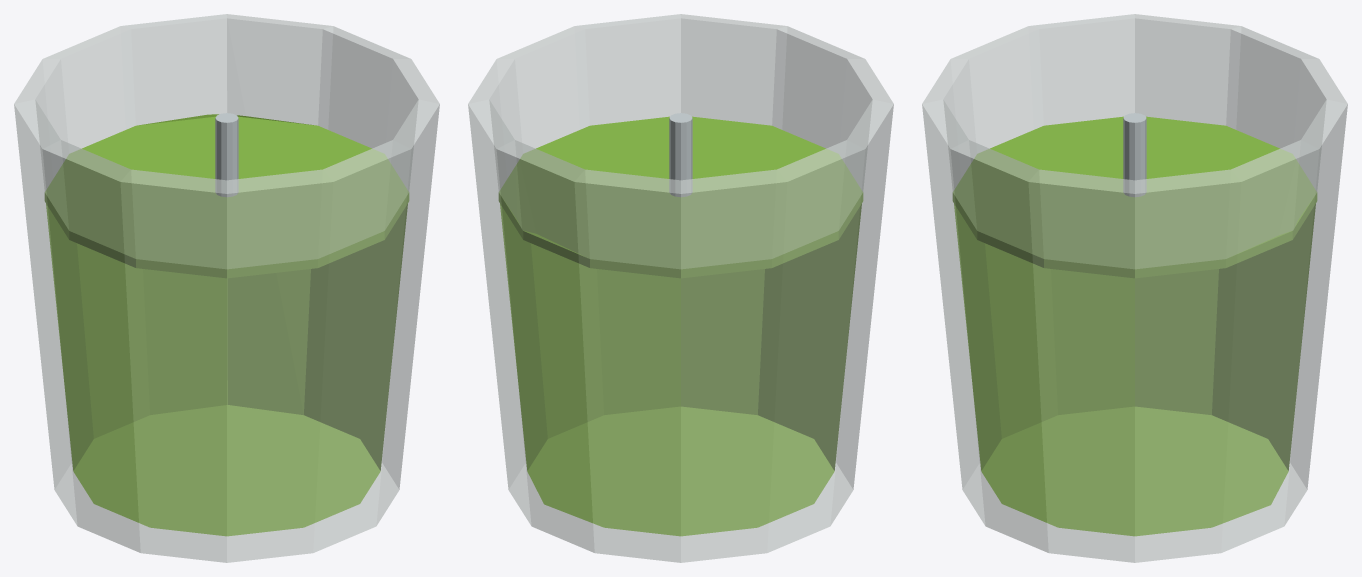
Rendered from Candle.glb.
3 renders of one model, left to right at view 1: azimuth 30°, elevation 25°; view 2: azimuth 150°, elevation 25°; view 3: azimuth 270°, elevation 25°, orthographic.
Visible parts, largest first — view 1: Node; view 2: Node; view 3: Node.
Boxes of the visible parts, x1,y1,x2,y2 form: Node: (14,14,439,562); Node: (468,14,893,562); Node: (922,14,1347,562).
Bounding box in the file's own units: 0.83 × 0.84 × 0.83.
